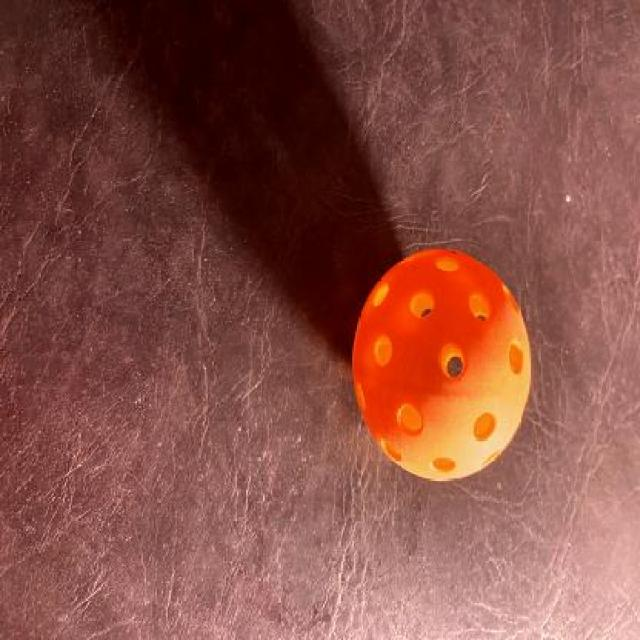ball: (345, 254, 537, 479)
